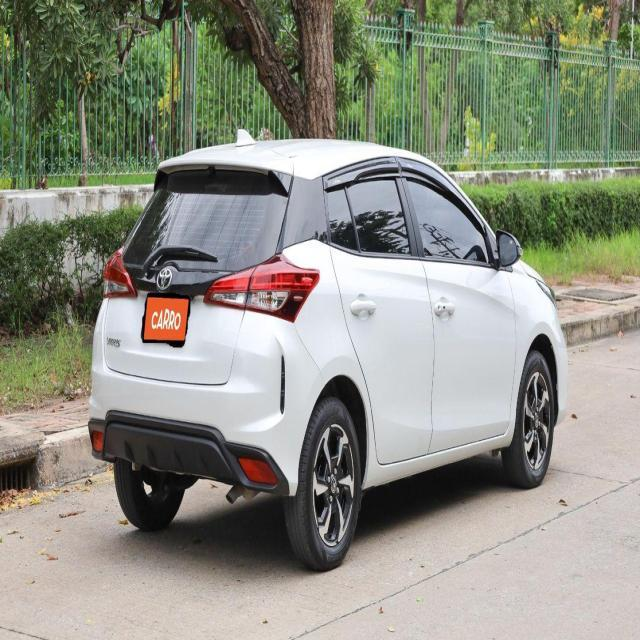Hatchback: (86, 134, 572, 575)
